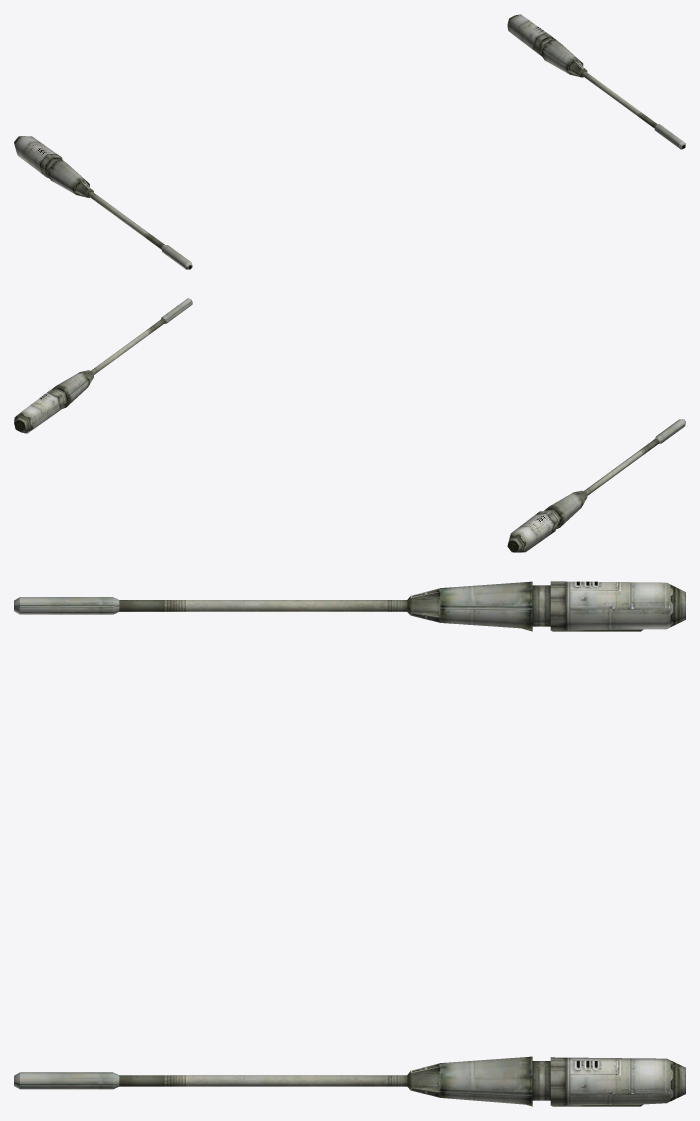
File: z95_weapon_s05_l1.fbx
3 views of the same model, one above another, from view 1: azimuth 30°, elevation 25°; view 2: azimuth 150°, elevation 25°; view 3: azimuth 270°, elevation 25° (orthographic). The views are drawn at different scales.
Visible parts, largest first — view 1: mesh_node; view 2: mesh_node; view 3: mesh_node.
Boxes of the visible parts, x1,y1,x2,y2 form: mesh_node: (14,14,685,269); mesh_node: (14,298,685,552); mesh_node: (14,581,685,1106).
Size of the model in its own units: 15.35 by 0.6879 by 8.8.
